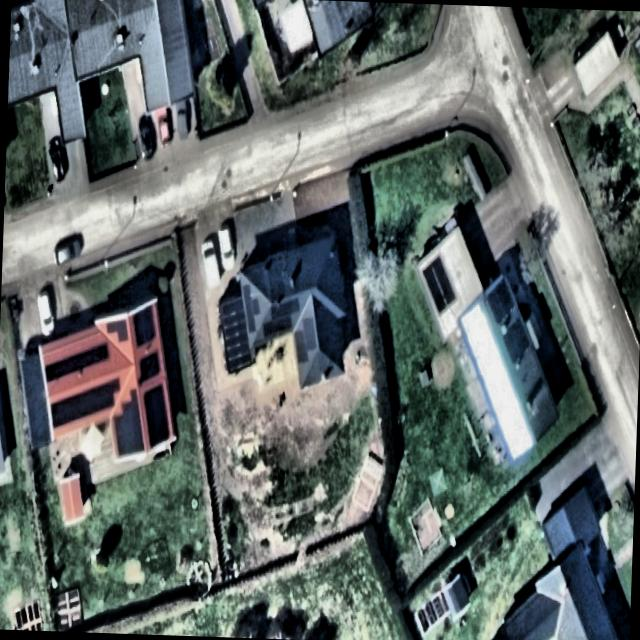roof_pv: (111, 386, 148, 462), (420, 252, 462, 318), (142, 382, 172, 450), (262, 296, 304, 338), (83, 375, 122, 419), (293, 311, 320, 370), (50, 386, 84, 431), (72, 340, 110, 370), (240, 283, 263, 331), (131, 306, 158, 346), (45, 351, 74, 386), (136, 350, 161, 386), (104, 317, 130, 347)
